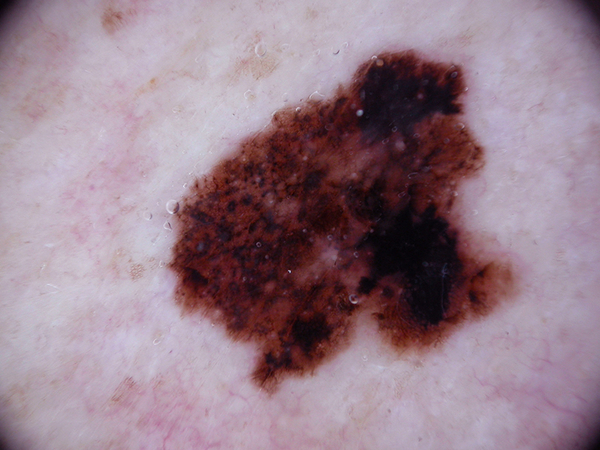Detected Lesion: (162, 32, 528, 398)
